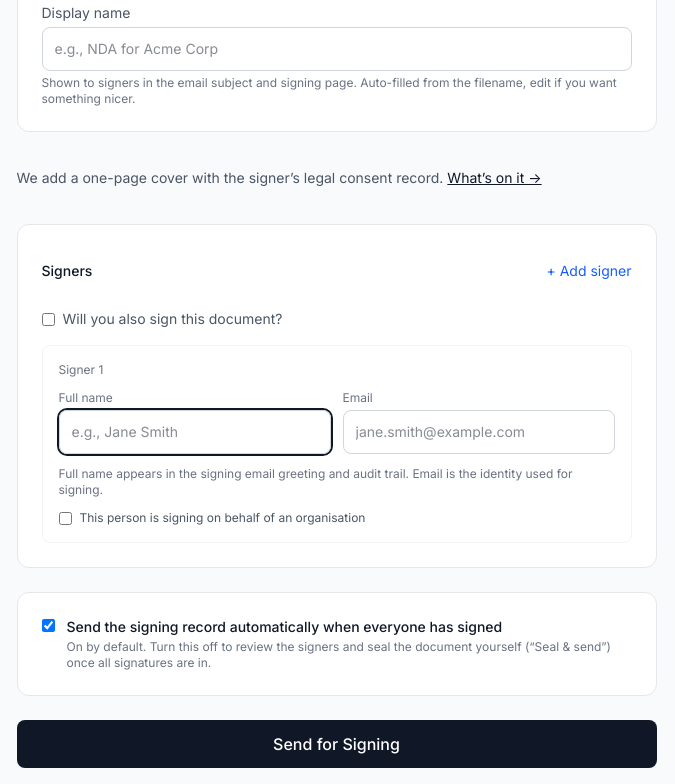
Test: CreateEnvelopePage — QA fixes (Barry 2026-06-18) › submitting with a missing field jumps to the TOP of the page (not the field) + shows the error (Barry QA 2026-06-19)
(page scrolled)
Click the button "Send for Signing". click: (336, 744)
box: 16,720 -> 656,768
(page scrolled)
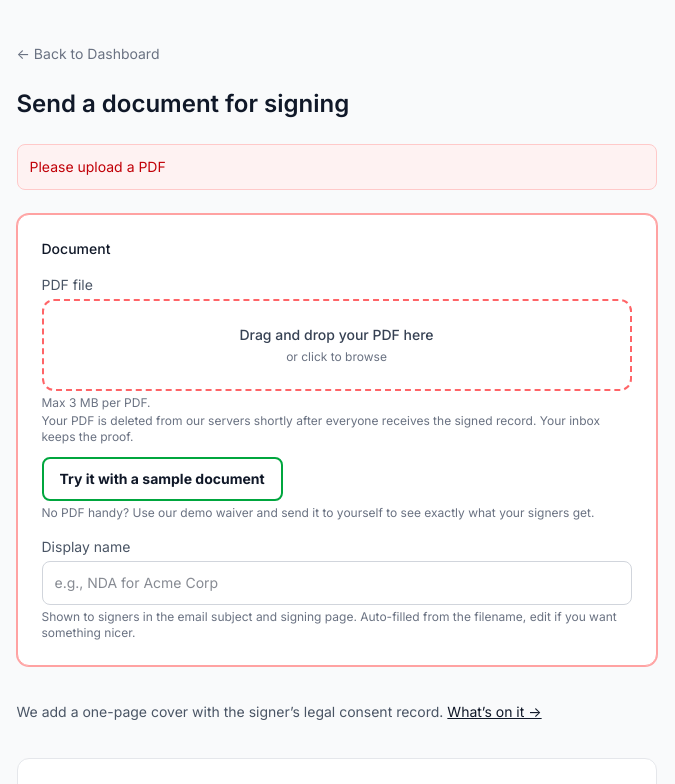
expect the text "Please upload a PDF" is shown: met, box 16,144 -> 656,190
